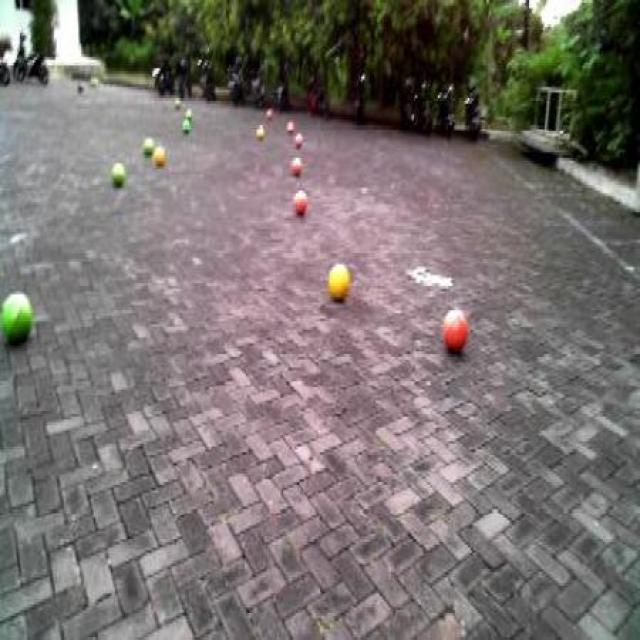buoy: (0, 275, 37, 354), (437, 298, 468, 358), (326, 254, 351, 304)
